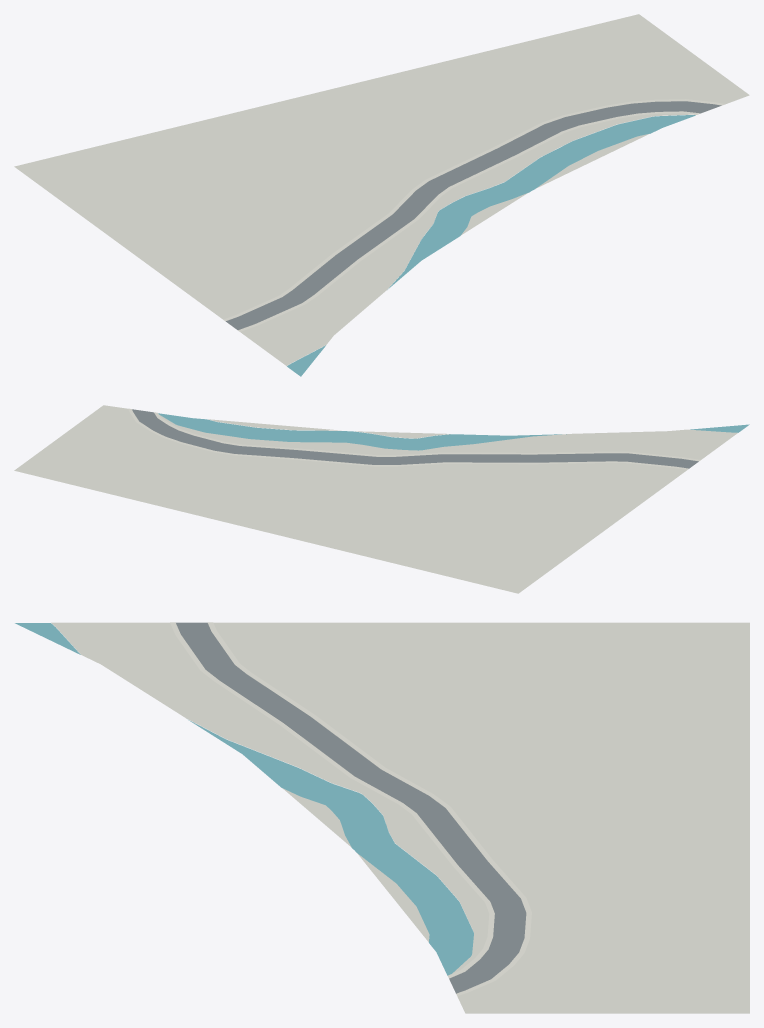
The picture shows the model from 3 angles, top to bottom: view 1: azimuth 30°, elevation 25°; view 2: azimuth 150°, elevation 25°; view 3: azimuth 270°, elevation 25°; orthographic projection. The views are drawn at different scales.
Parts seen in each view (by area): view 1: city; view 2: city; view 3: city.
Part boxes in pixels (<box>): city: <box>14,14,749,376</box>; city: <box>14,405,749,593</box>; city: <box>15,622,749,1013</box>.
Size of the model in its own units: 500 by 0.4 by 398.
